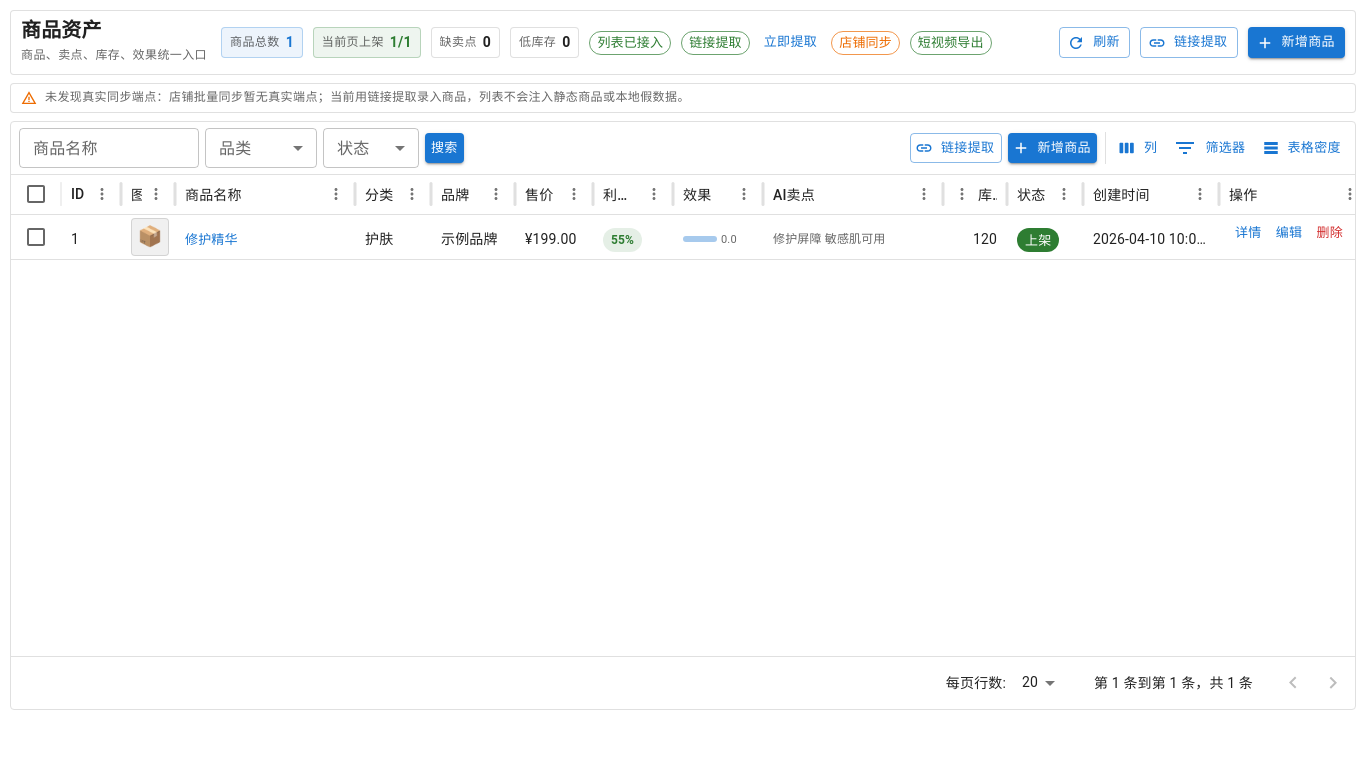
ProductsPage › extracts product link and pre-fills add product form
This screenshot has width=1366, height=768.
Click the 1st button "链接提取".
click(715, 42)  # box [681,30,750,54]
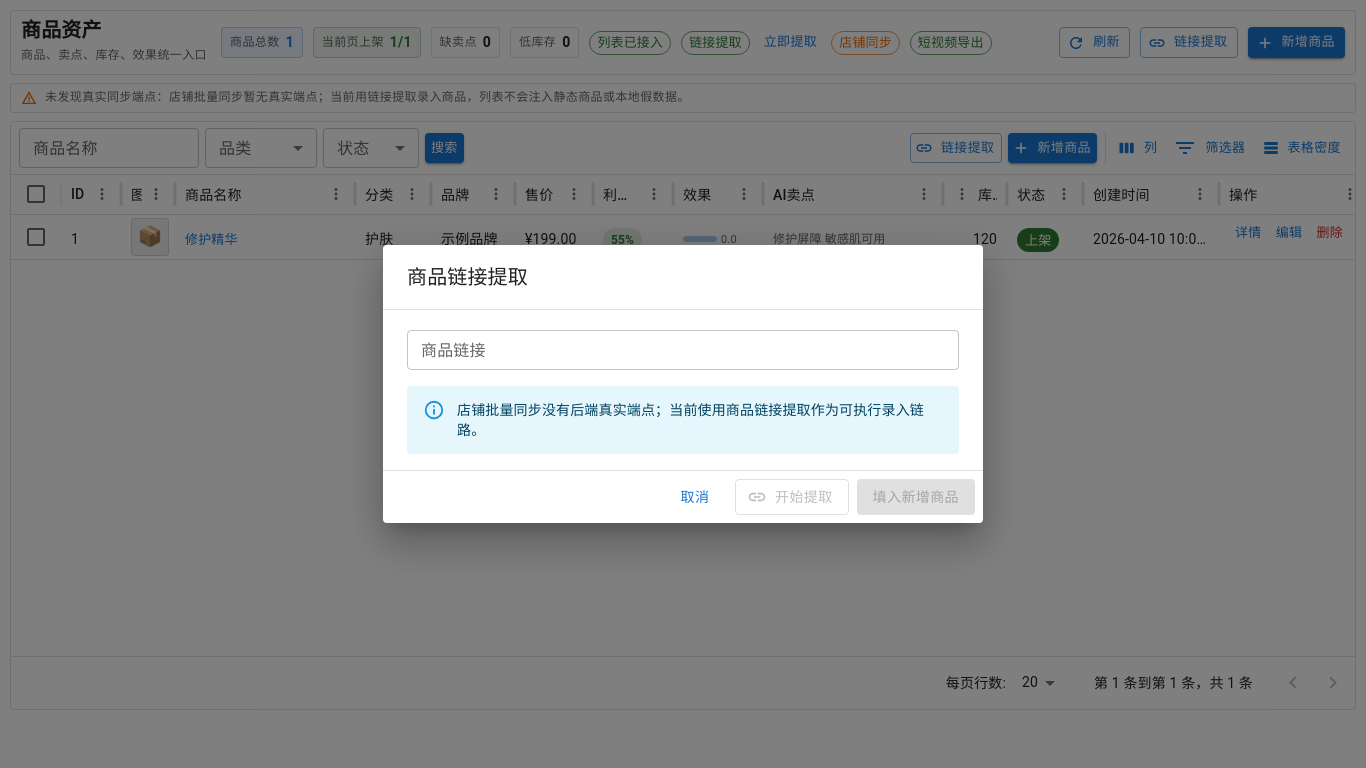
Type "https://shop.example/item/9" into the field labelled "商品链接".
click(683, 350); type("https://shop.example/item/9")  # box [407,330,959,370]
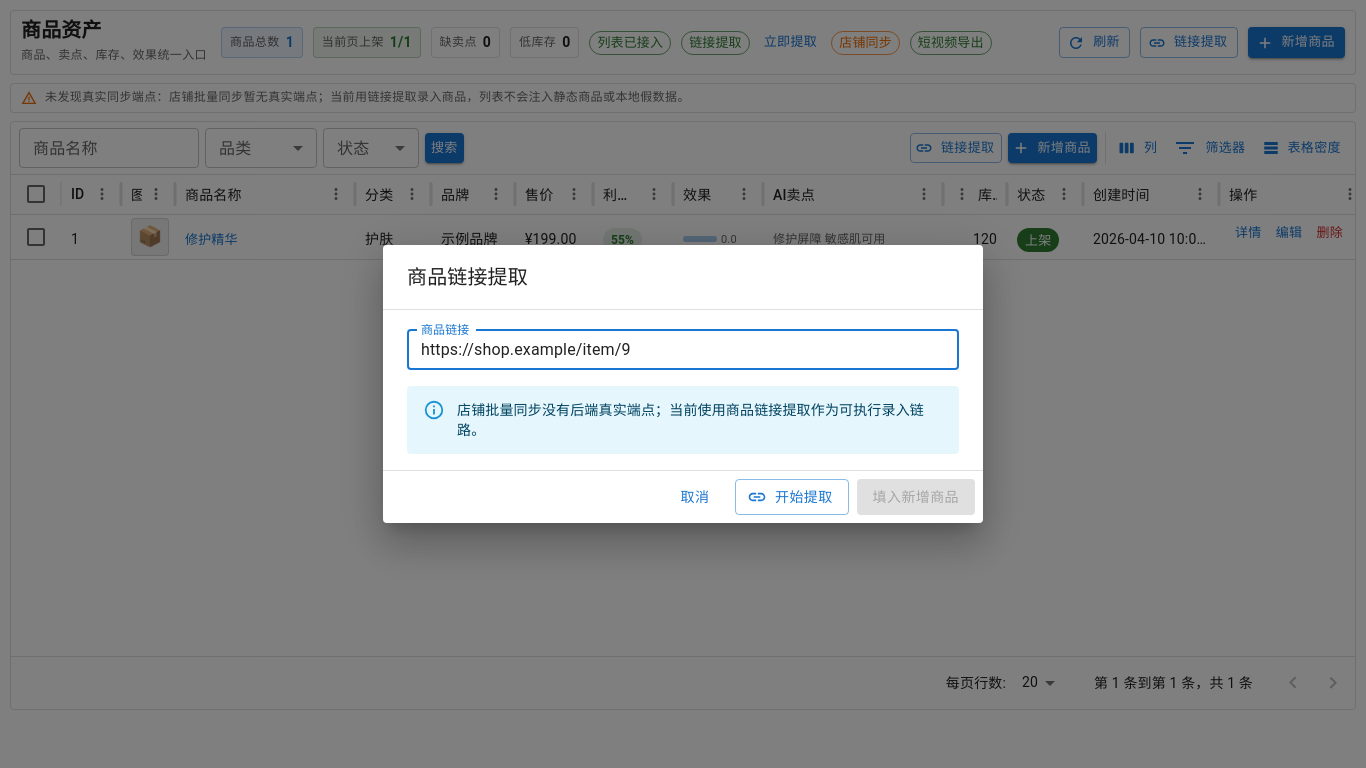
Click the button "开始提取".
click(792, 497)  # box [735,479,849,515]
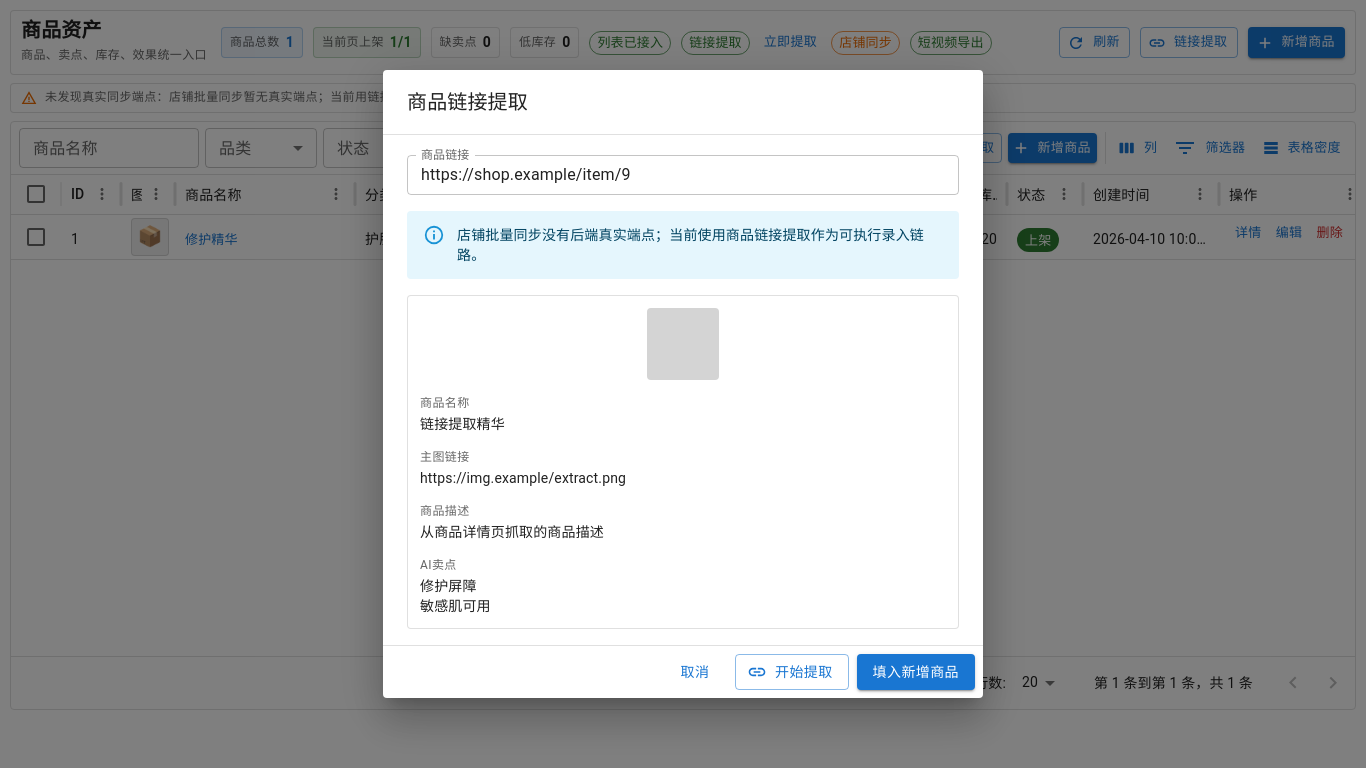
Expected: the text "链接提取精华" is shown, [420,416,505,432]
Expected: the text "修护屏障 敏感肌可用" is shown, [420,578,491,614]
Click the button "填入新增商品".
click(916, 672)  # box [857,654,975,690]
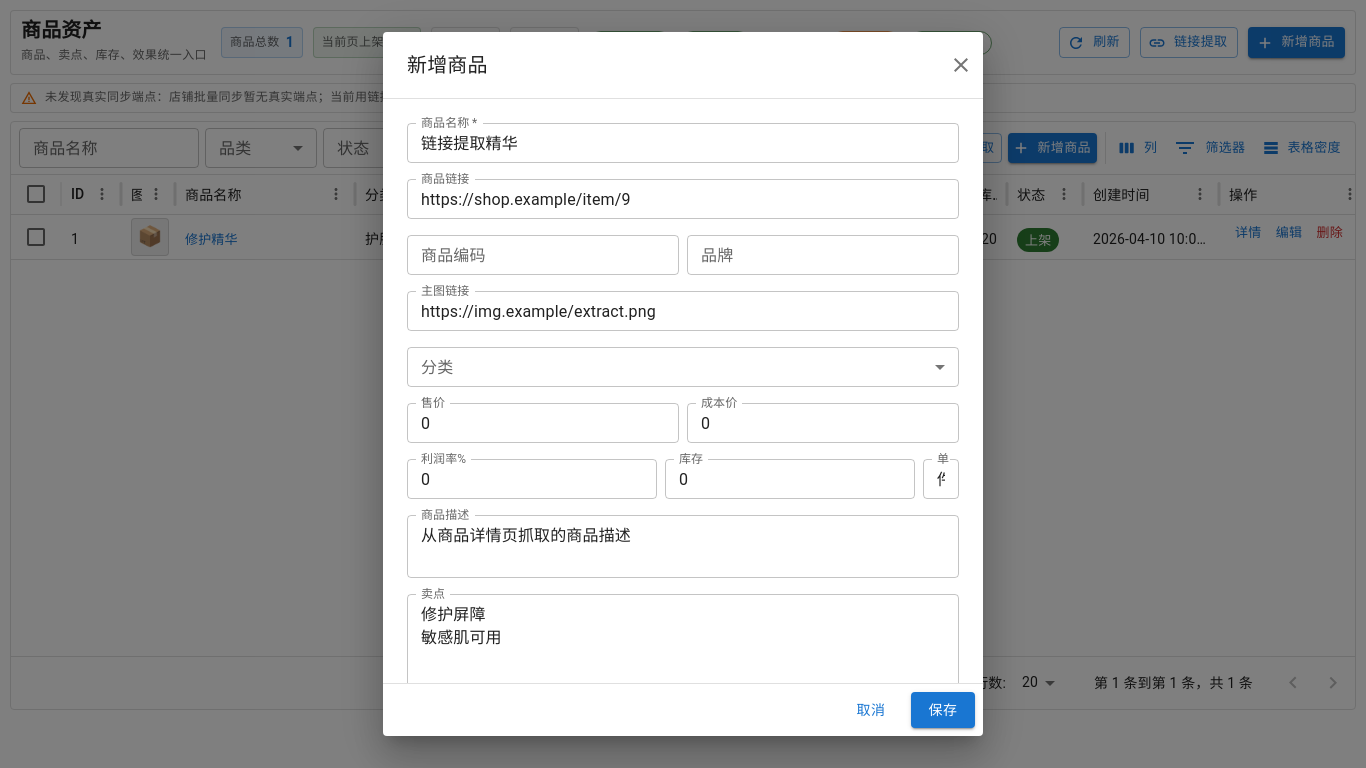
Expected: the field labelled "商品名称 *" holds "链接提取精华", [407,123,959,163]
Expected: the field labelled "商品链接" holds "https://shop.example/item/9", [407,179,959,219]
Expected: the field labelled "主图链接" holds "https://img.example/extract.png", [407,291,959,331]
